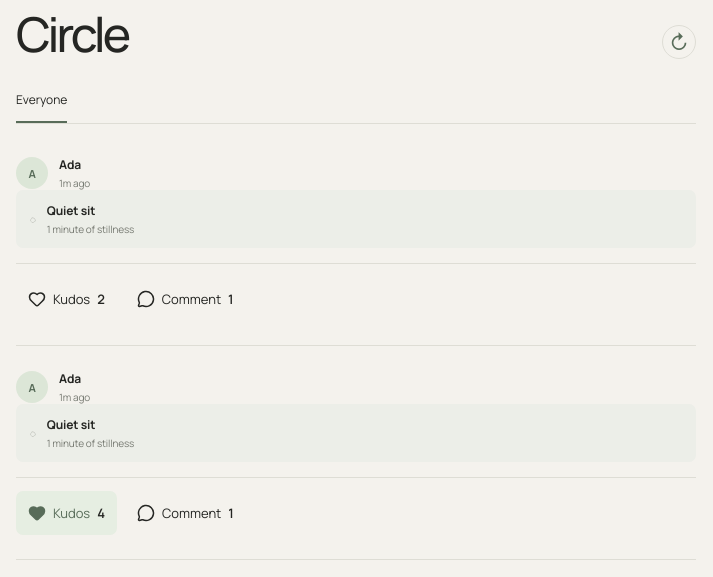
Circle final coverage › updates only the clicked kudos and handles an un-kudos response and primitive failure
The width and height of the screenshot is (713, 577).
Expected: the text "Kudos" is shown 2 times, [53,290,90,308]; [53,504,90,522]
Click the button "Kudos 2" at (66, 299), box [16,277,117,321]
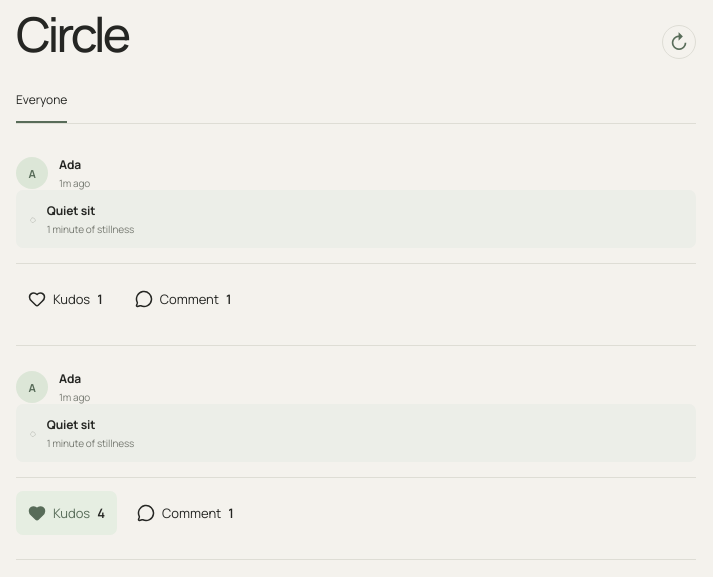
Expected: the button "Kudos 4" is shown, [16,491,117,535]
Now the button "Kudos 1" is shown, box [16,277,115,321]
